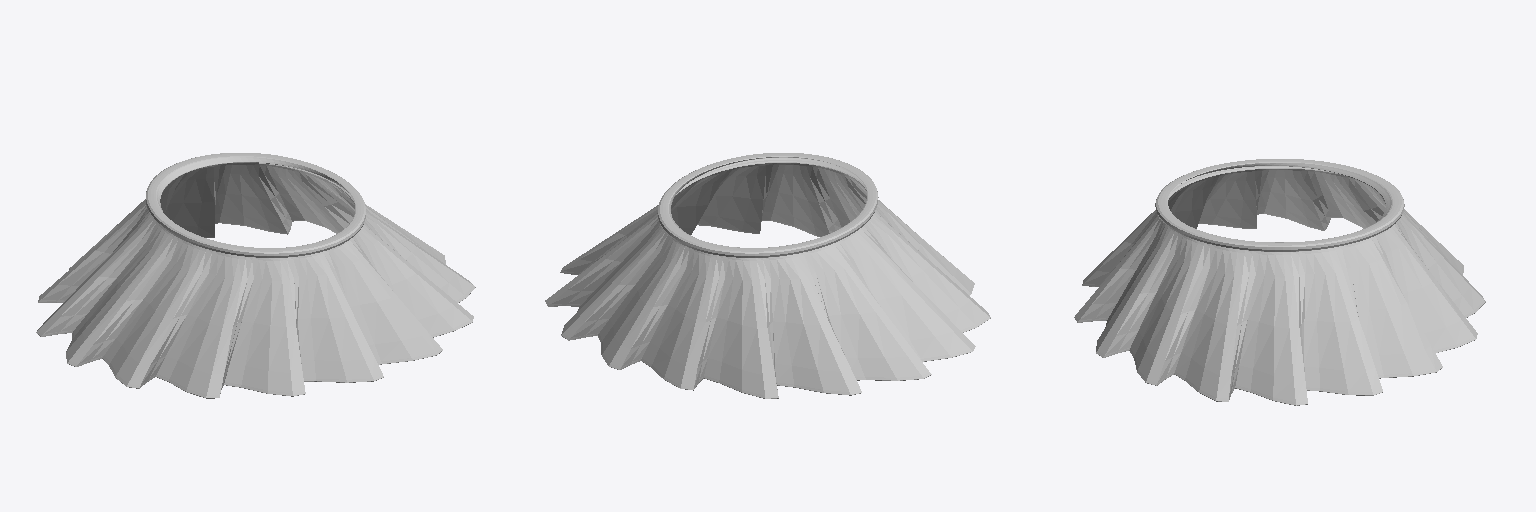
Rendered from Falda.obj.
3 renders of one model, left to right at view 1: azimuth 30°, elevation 25°; view 2: azimuth 150°, elevation 25°; view 3: azimuth 270°, elevation 25°, orthographic.
Parts seen in each view (by area): view 1: Falda_; view 2: Falda_; view 3: Falda_.
Boxes of the visible parts, x1,y1,x2,y2 form: Falda_: [36, 153, 475, 398]; Falda_: [545, 153, 990, 398]; Falda_: [1074, 159, 1485, 405].
Bounding box in the file's own units: 35.2 × 9.22 × 31.87.